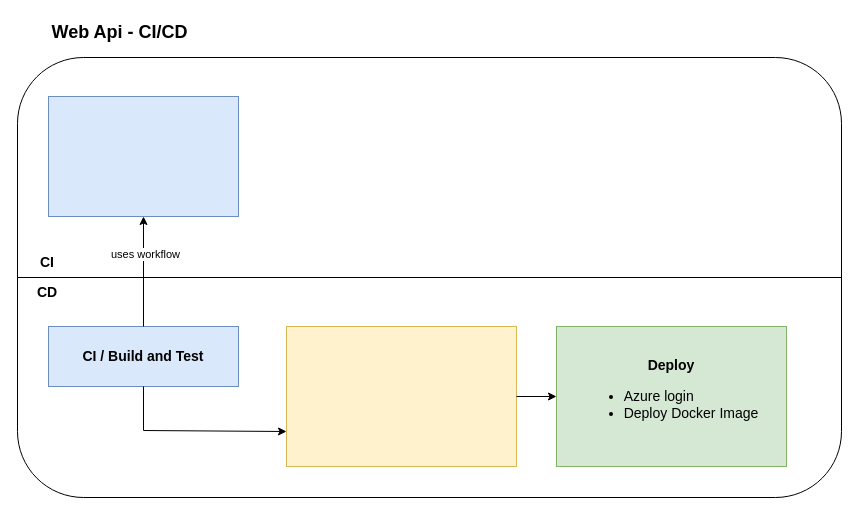
The diagram is 860 pixels wide and 515 high, and some of its shapes have lost their labels. Each missing label, with the centre of its shape:
Build and Test Build Test: (x=143, y=156)
Package Build Docker Image Push Image to Registry: (x=401, y=396)
